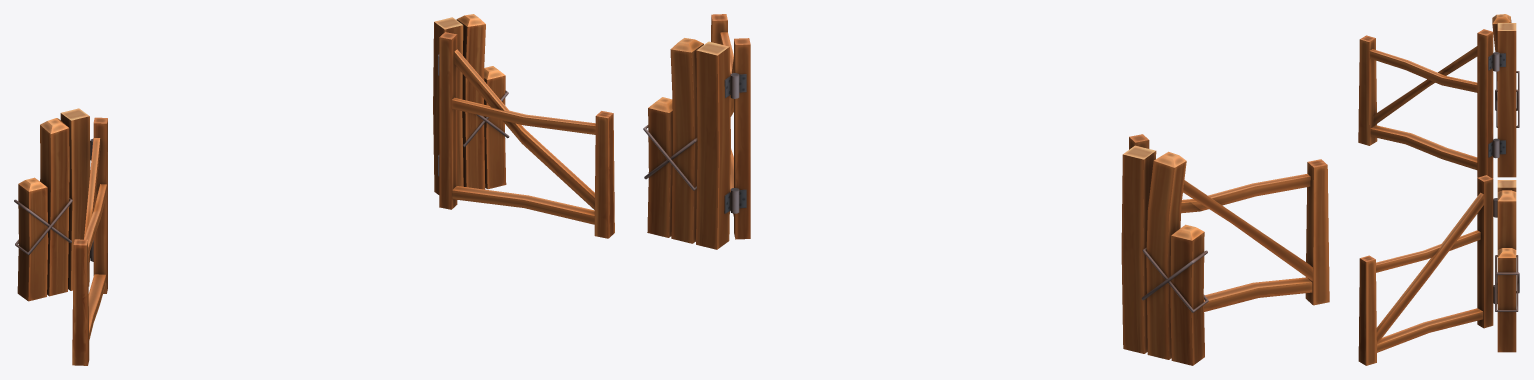
File: Fences01_7.FBX
The picture shows the model from 3 angles, left to right: view 1: azimuth 30°, elevation 25°; view 2: azimuth 150°, elevation 25°; view 3: azimuth 270°, elevation 25°; orthographic projection. The views are drawn at different scales.
Visible parts, largest first — view 1: Fences01_7; view 2: Fences01_7; view 3: Fences01_7.
Part boxes in pixels (x1,y1,x2,y2): Fences01_7: [14, 14, 614, 365]; Fences01_7: [643, 14, 1329, 365]; Fences01_7: [1358, 14, 1519, 365].
Size of what is drawn, in the model's own units: 4.46 by 1.35 by 1.33.
